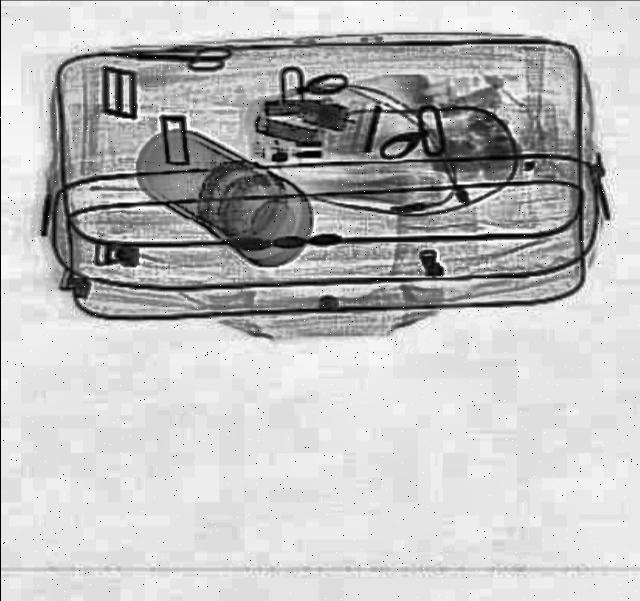Scissors: (110, 46, 232, 74)
